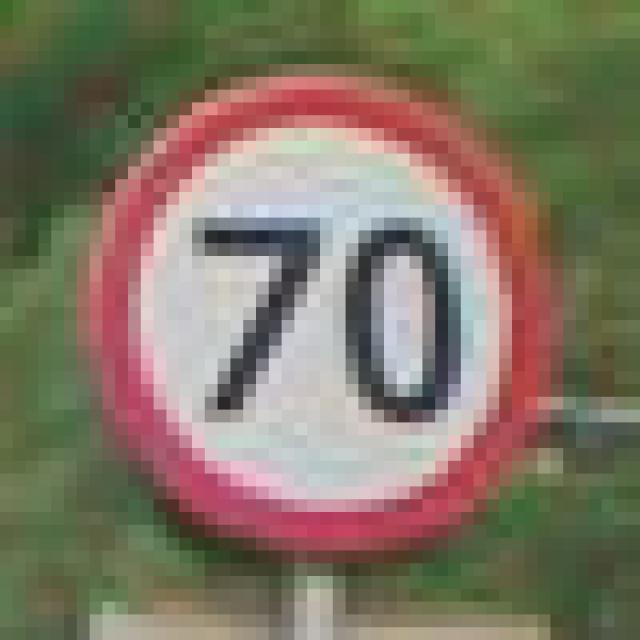SPEED_LIMIT_70: (64, 51, 550, 538)
